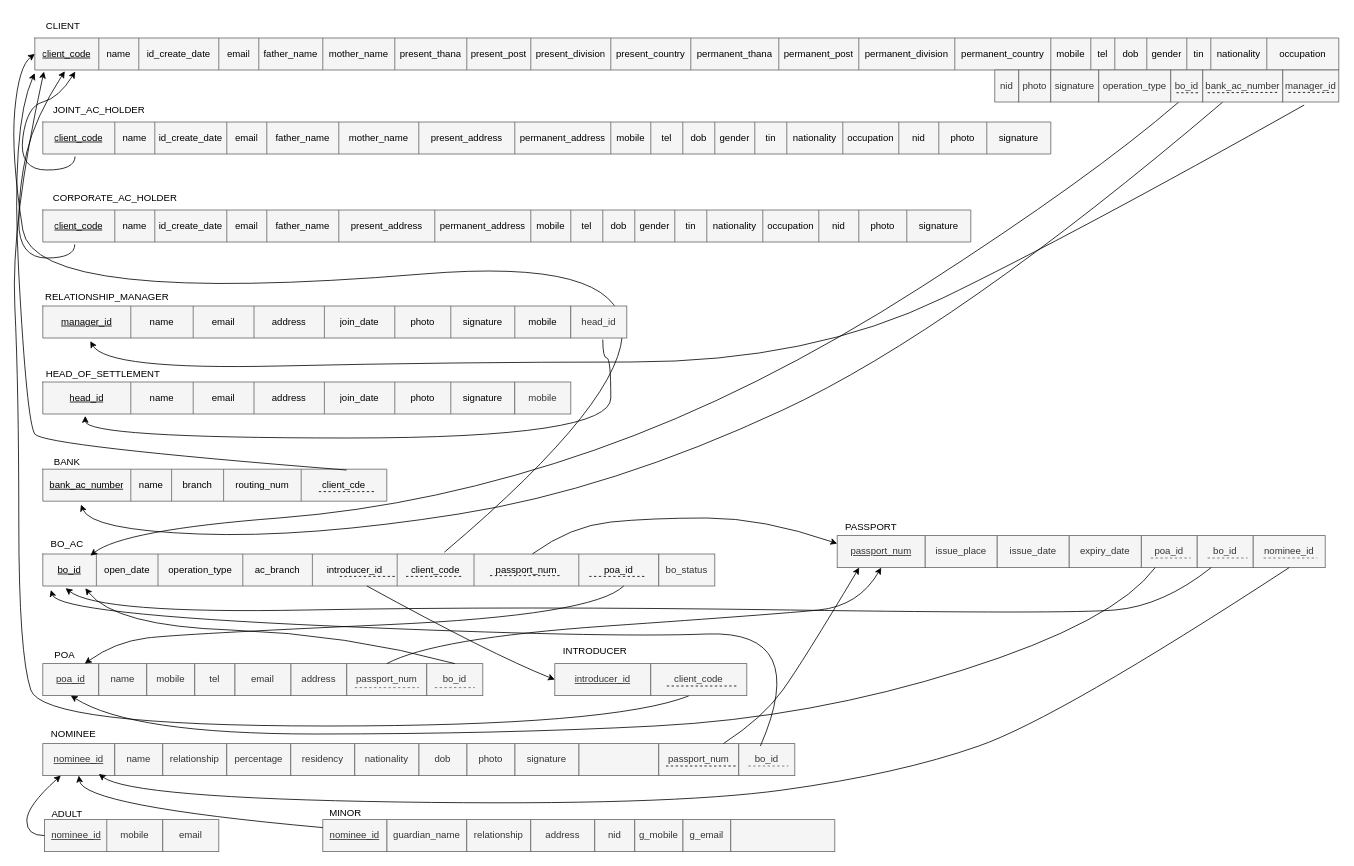
This 1354x866 diagram has some shape labels left out. The box of each missing label's shape, as (x1, y1, x2, y2) in pixels:
age_status: (578, 743, 659, 776)
minor_maturity_date: (730, 819, 835, 852)
